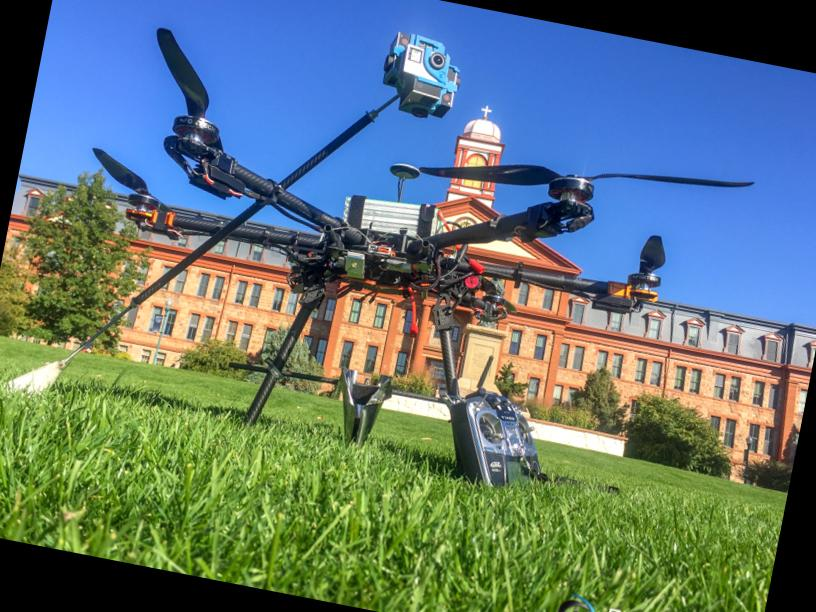drone: (30, 0, 780, 494)
